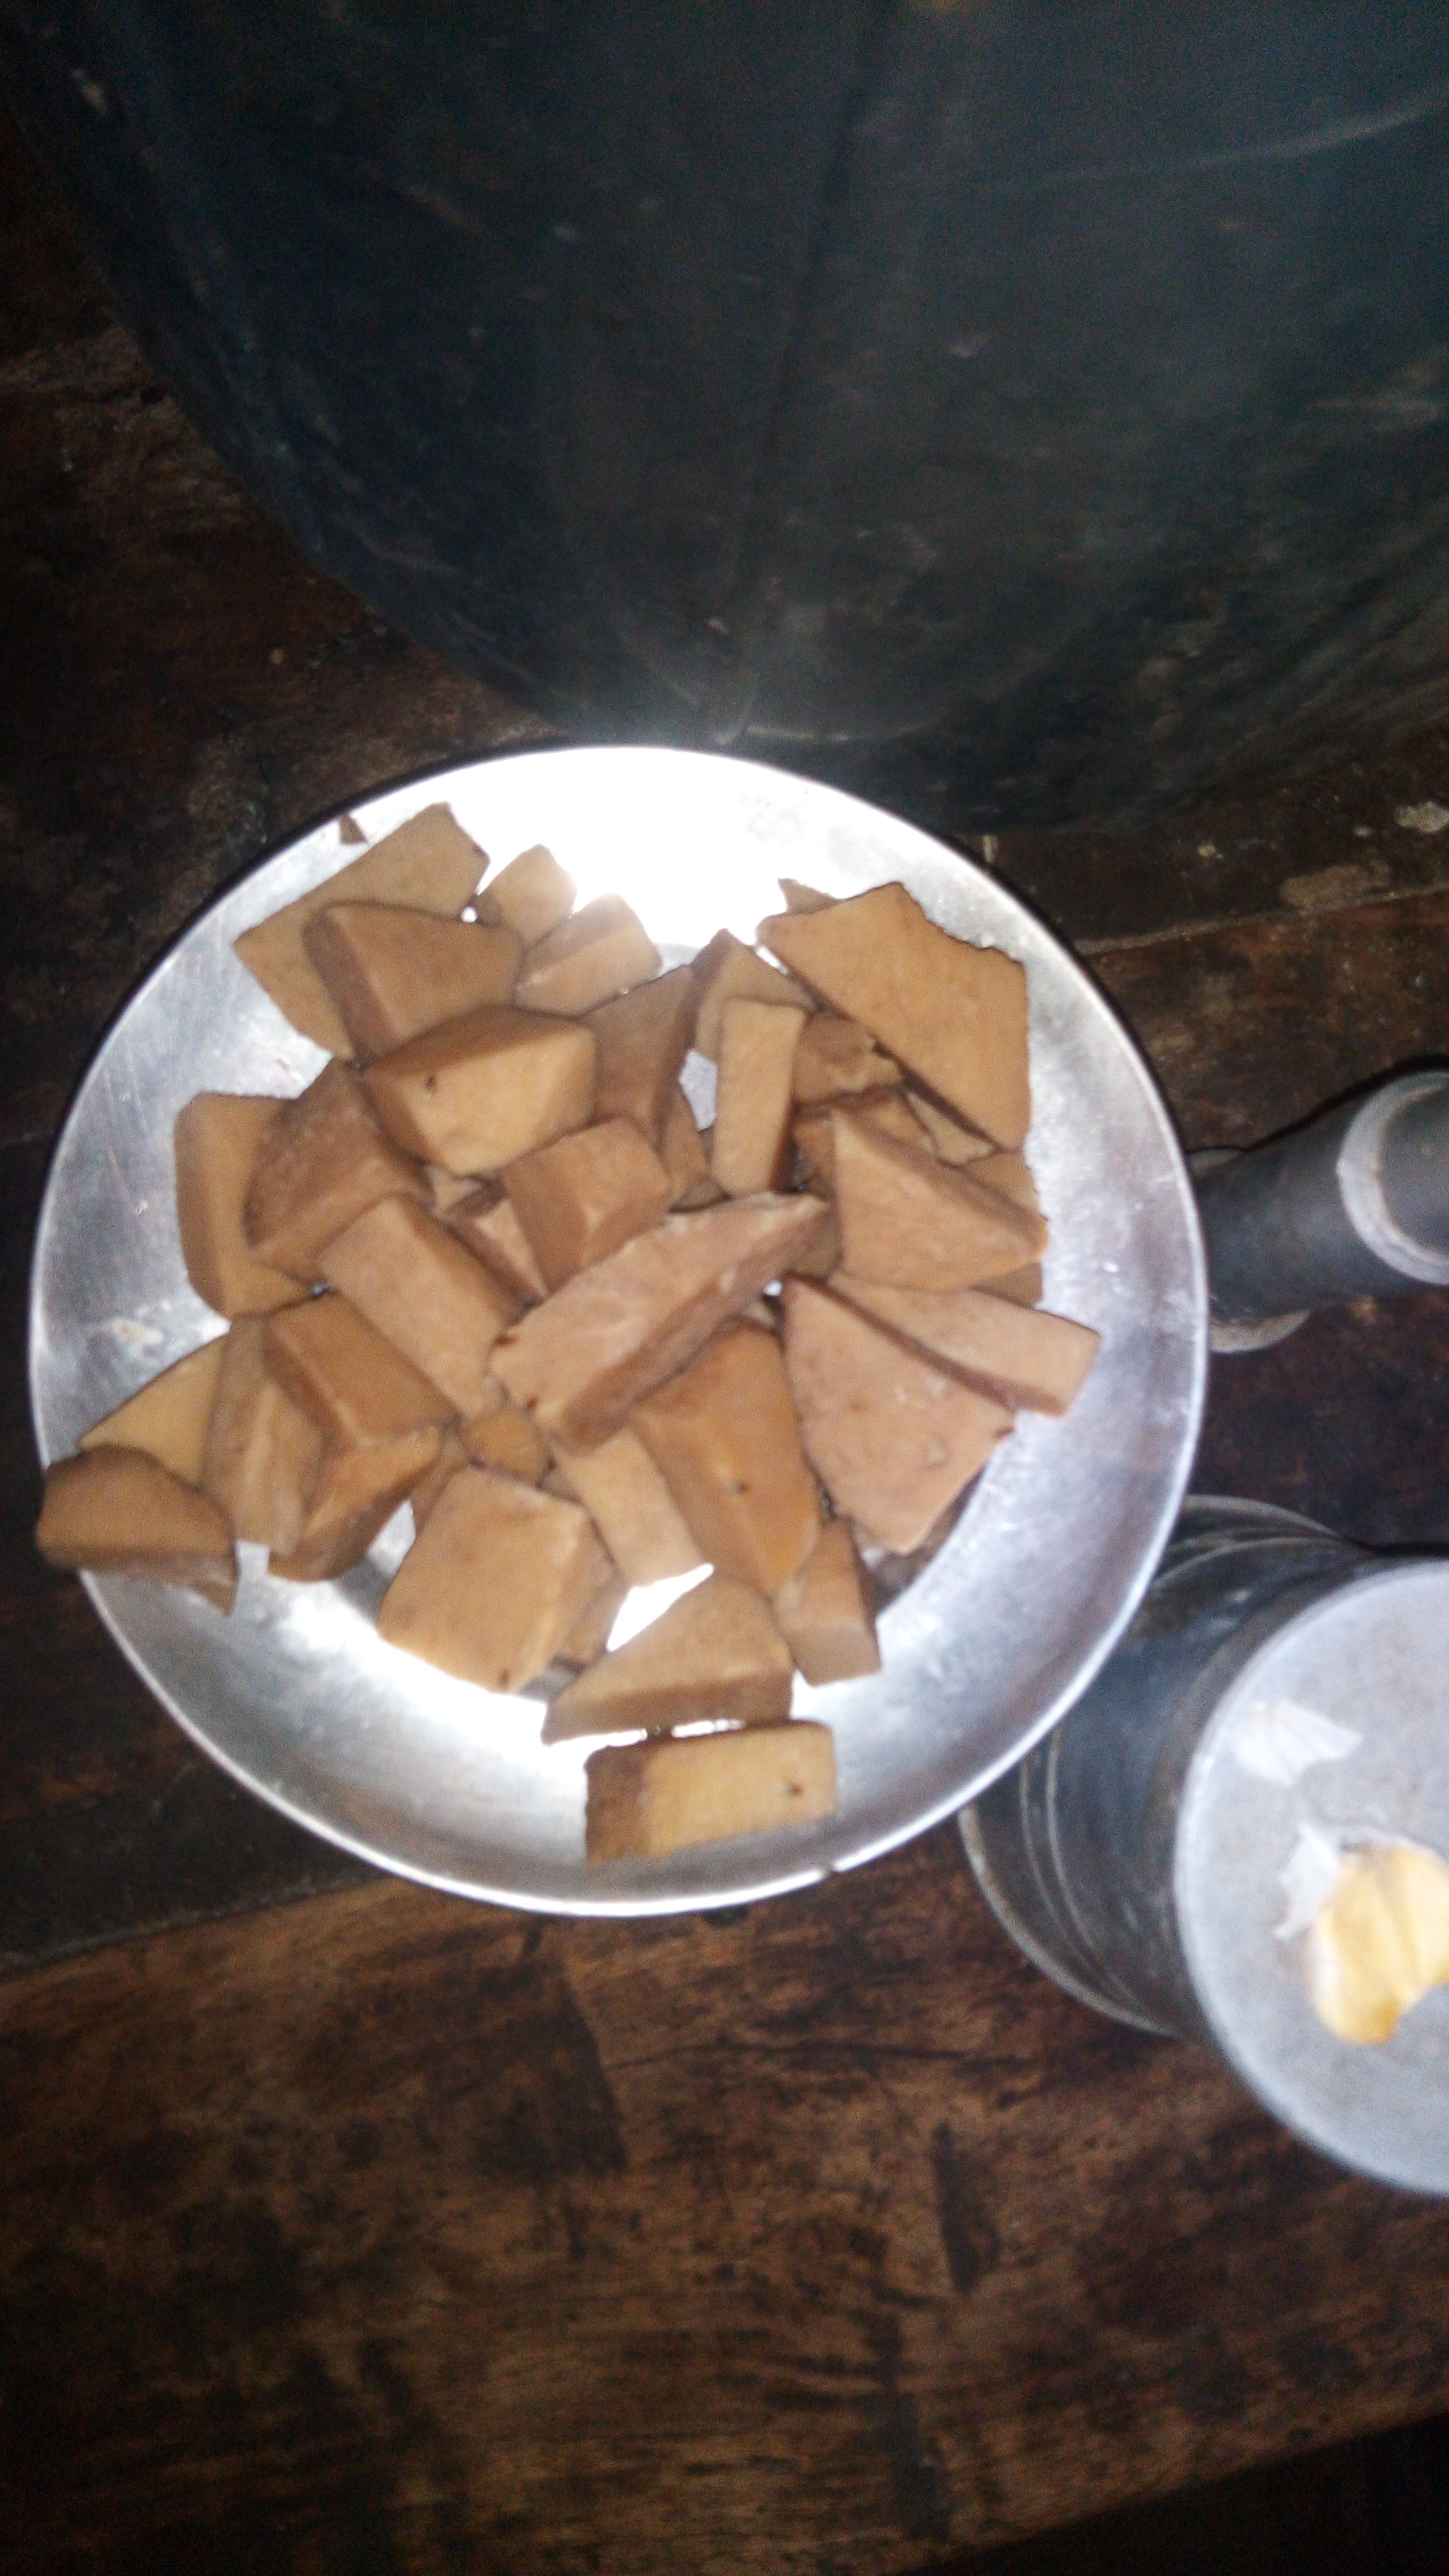food: (25, 787, 1118, 1888), (1279, 1796, 1449, 2049)
